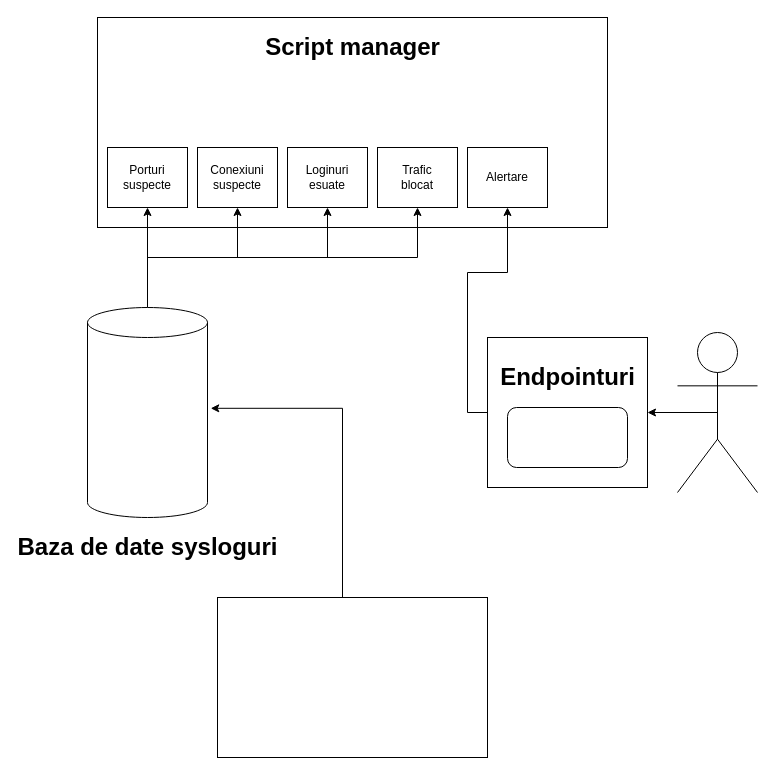
This 775x775 diagram has some shape labels left out. The shapes that lost their labels are listed below. From the top down, each one's box as (x1, y1, x2, y2) in pixels, then its label:
(676, 332, 758, 492): Actor
(506, 406, 628, 468): Script agent
(216, 596, 488, 758): Dispozitive de retea
